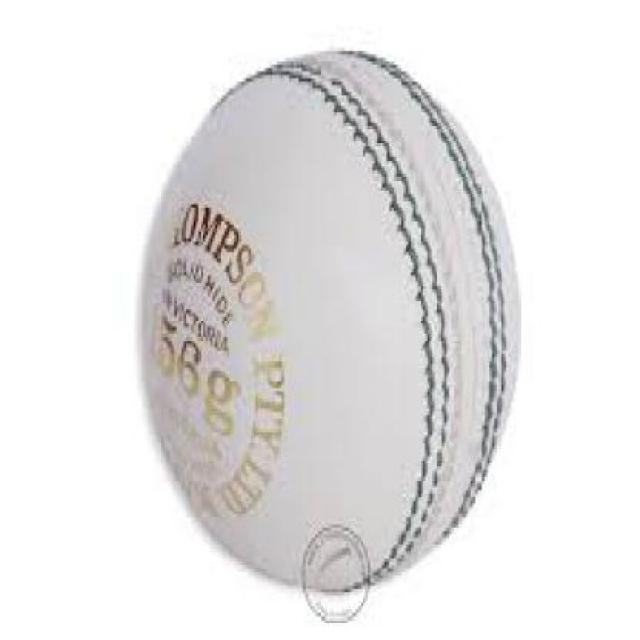ball: (128, 23, 550, 609)
